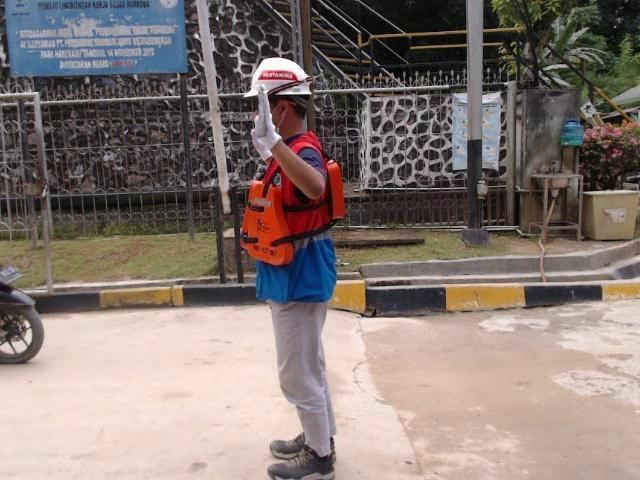vest: (237, 178, 297, 274), (319, 153, 349, 224)
